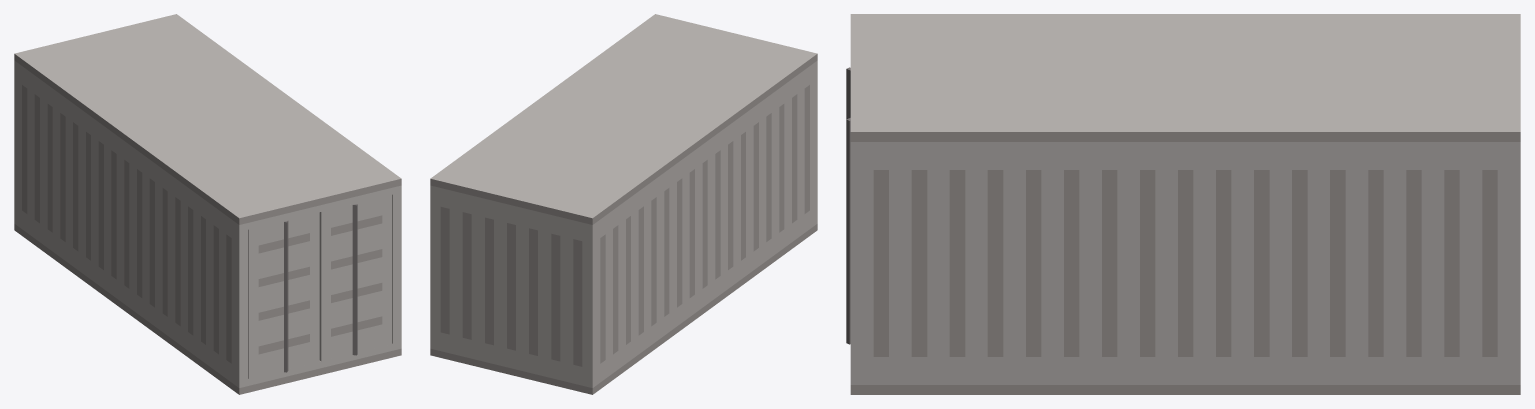
File: cargo-shipping_white.glb
3 views of the same model, side by side, from view 1: azimuth 30°, elevation 25°; view 2: azimuth 150°, elevation 25°; view 3: azimuth 270°, elevation 25° (orthographic). The views are drawn at different scales.
Parts seen in each view (by area): view 1: cargo-shipping-base_white, cargo-shipping-door_L_white, cargo-shipping-door_R_white; view 2: cargo-shipping-base_white; view 3: cargo-shipping-base_white, cargo-shipping-door_L_white.
Part boxes in pixels (x1=…): cargo-shipping-base_white: x1=14, y1=14, x2=401, y2=394; cargo-shipping-door_L_white: x1=319, y1=194, x2=391, y2=361; cargo-shipping-door_R_white: x1=248, y1=212, x2=319, y2=378; cargo-shipping-base_white: x1=430, y1=14, x2=817, y2=394; cargo-shipping-base_white: x1=850, y1=14, x2=1520, y2=394; cargo-shipping-door_L_white: x1=846, y1=118, x2=850, y2=344.
Bounding box in the file's own units: 2.5 × 2.6 × 6.04.
Materials: 1 (1 with a texture image).
